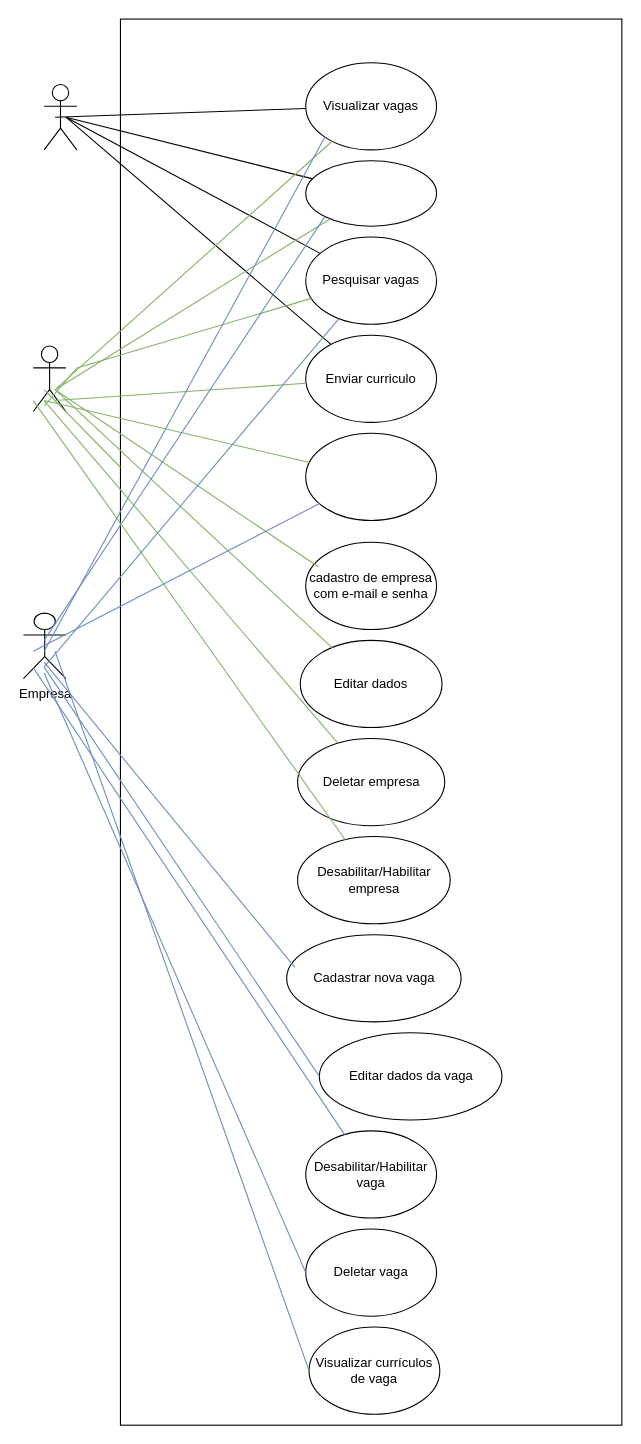
The diagram is 641 pixels wide and 1444 high, and some of its shapes have lost their labels. Each missing label, with the centre of its shape:
"Abrir vaga especifica" goes at point (371, 193).
"ADM" goes at point (49, 378).
"Logar e-mail e senha" goes at point (371, 476).
"Visitante" goes at point (60, 116).
